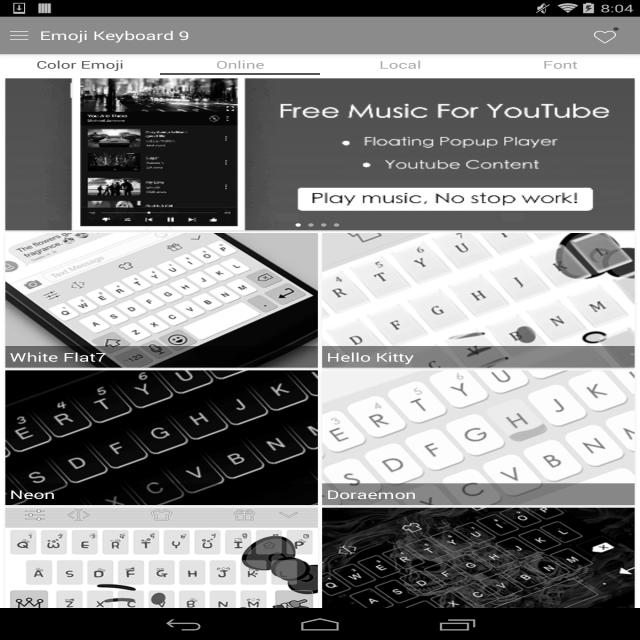ImageView: (5, 78, 635, 230), (5, 233, 318, 368), (322, 233, 635, 368), (5, 370, 318, 505), (322, 370, 635, 505), (5, 507, 317, 640), (322, 507, 634, 640), (0, 27, 38, 43), (35, 35, 35, 36)
TextView: (5, 346, 318, 368), (322, 346, 635, 368), (5, 483, 318, 505), (322, 483, 635, 505), (0, 54, 160, 75), (160, 54, 320, 75), (320, 54, 480, 75), (480, 54, 640, 75), (571, 16, 640, 54), (39, 27, 190, 43)
